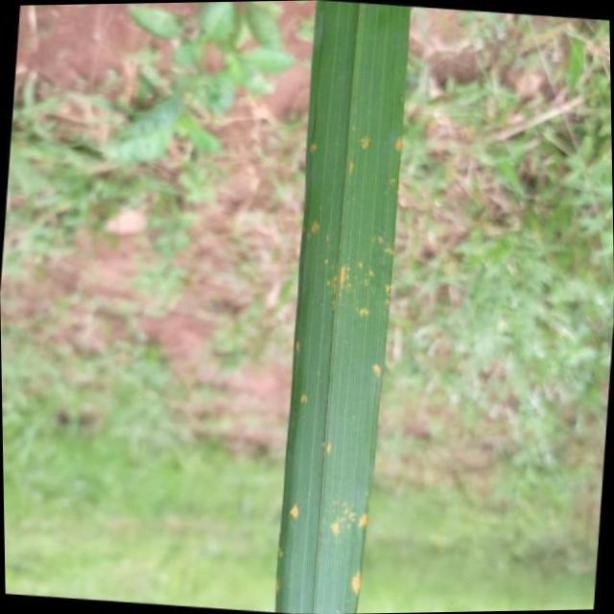Kalium: (272, 0, 408, 614)
